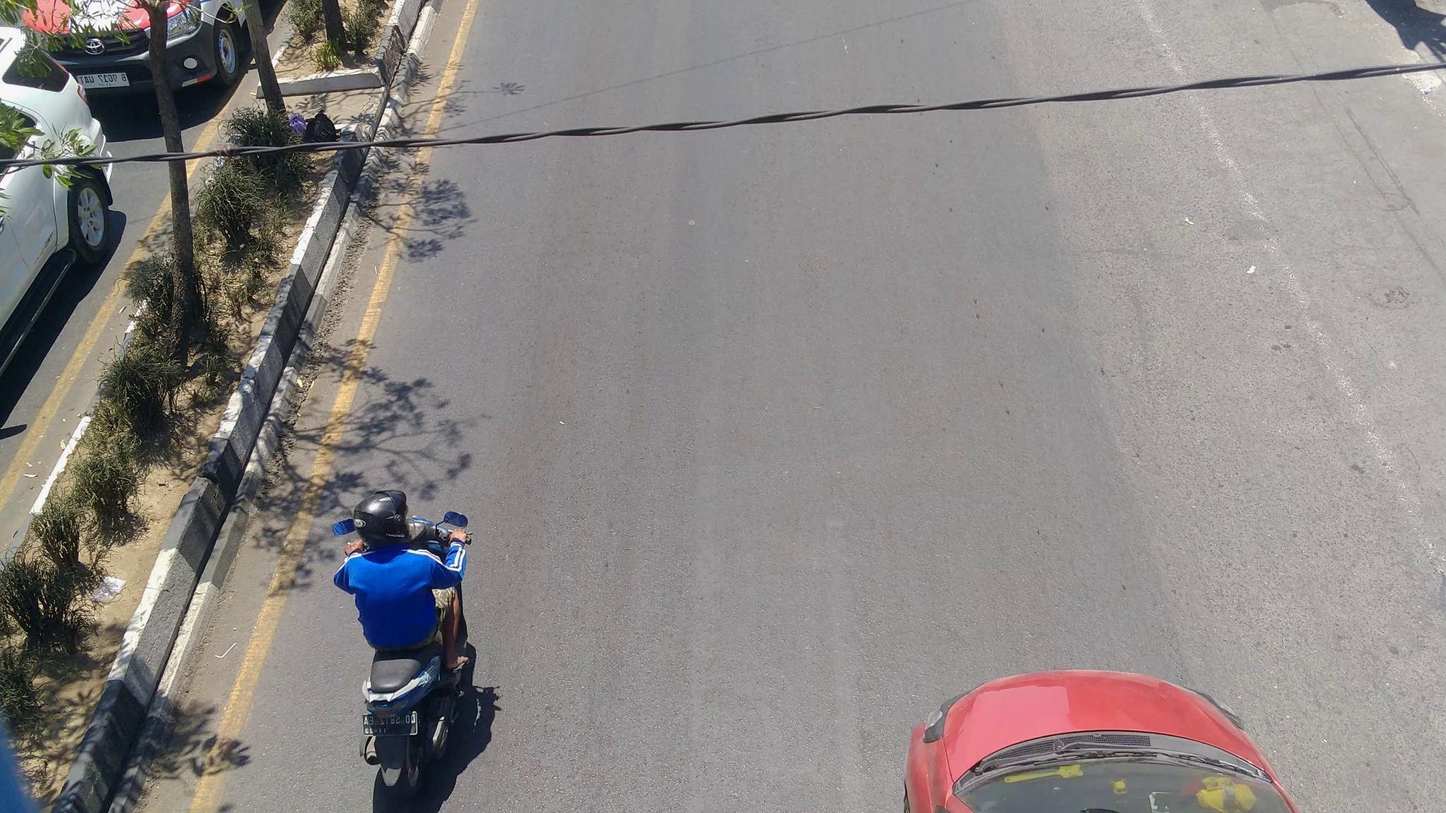Helmet: (345, 482, 423, 556)
bike: (327, 507, 479, 787)
number-plate: (358, 710, 418, 736)
rider: (335, 483, 474, 675)
